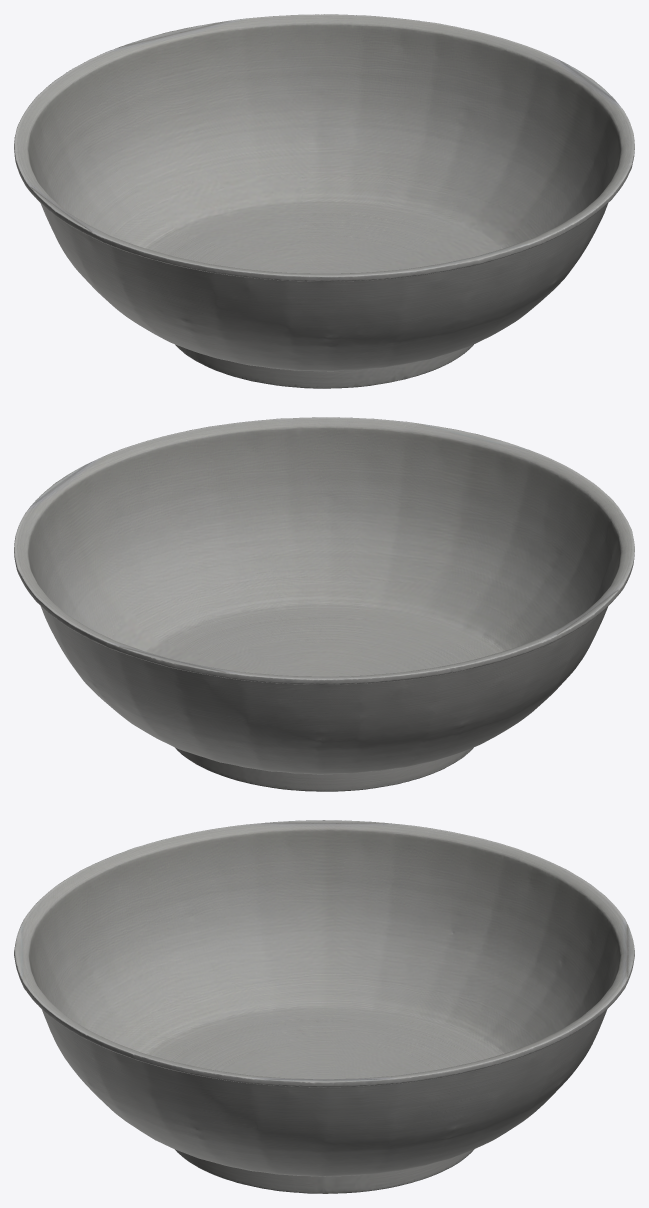
The model's file is Meshy_AI_쇠그릇_20261118_texture.fbx.
The picture shows the model from 3 angles, top to bottom: view 1: azimuth 30°, elevation 25°; view 2: azimuth 150°, elevation 25°; view 3: azimuth 270°, elevation 25°; orthographic projection.
Visible parts, largest first — view 1: Mesh_0; view 2: Mesh_0; view 3: Mesh_0.
Boxes of the visible parts, left/top/right/bottom form: Mesh_0: left=14, top=14, right=634, bottom=388; Mesh_0: left=14, top=417, right=634, bottom=791; Mesh_0: left=14, top=820, right=634, bottom=1193.
Bounding box in the file's own units: 190 × 59.35 × 190.
1 material, 1 textured.
